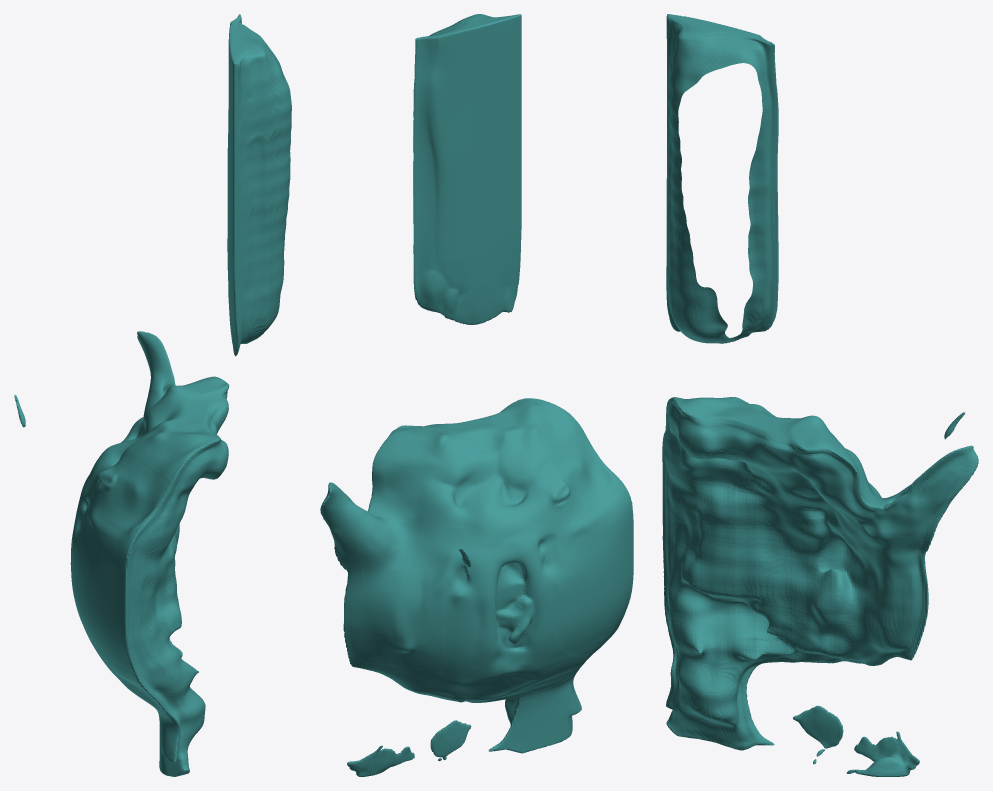
Rendered from teapot_01.glb.
3 renders of one model, left to right at view 1: azimuth 30°, elevation 25°; view 2: azimuth 150°, elevation 25°; view 3: azimuth 270°, elevation 25°, orthographic. The views are drawn at different scales.
Visible parts, largest first — view 1: world; view 2: world; view 3: world.
Boxes of the visible parts, x1,y1,x2,y2 form: world: [14, 14, 291, 776]; world: [320, 14, 633, 776]; world: [662, 14, 978, 776].
Bounding box in the file's own units: 0.5064 × 1.95 × 0.7467.
